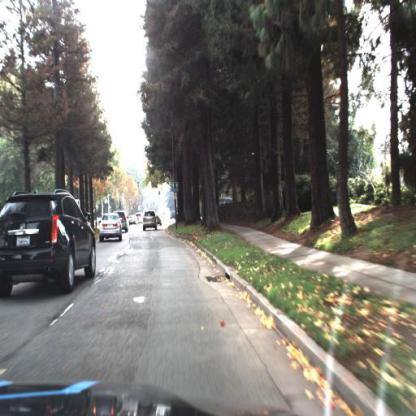car: (0, 180, 99, 297), (143, 207, 158, 232), (118, 209, 128, 235), (154, 209, 164, 231), (169, 210, 177, 221)
